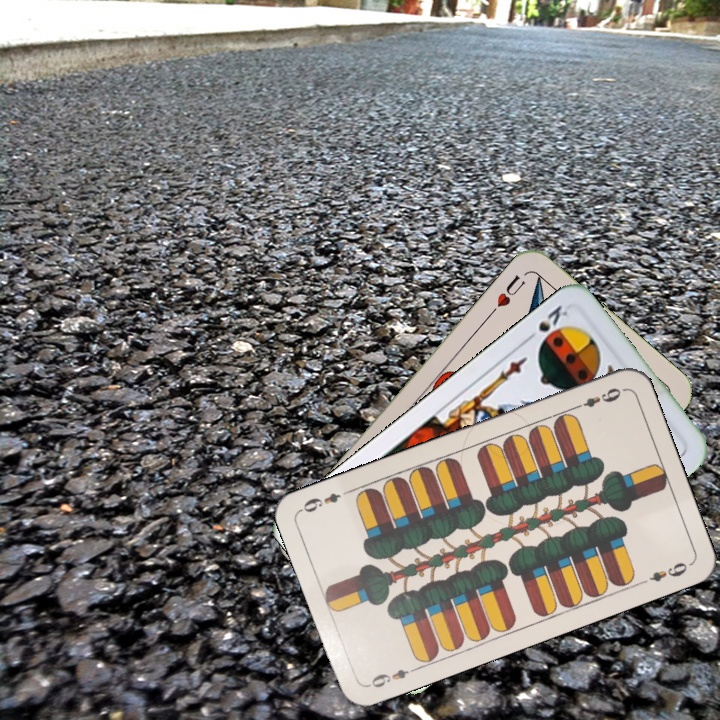E9: (569, 383, 624, 412), (363, 663, 421, 690)
HU: (486, 270, 528, 318)
SK: (521, 301, 571, 345)
